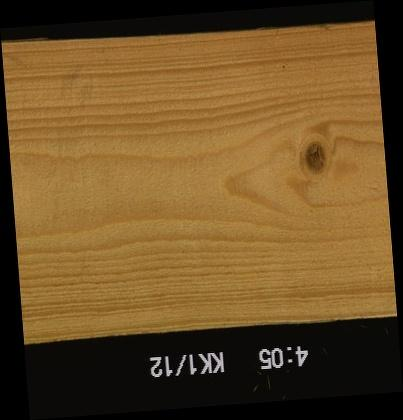sound_knot: (300, 141, 327, 174)
